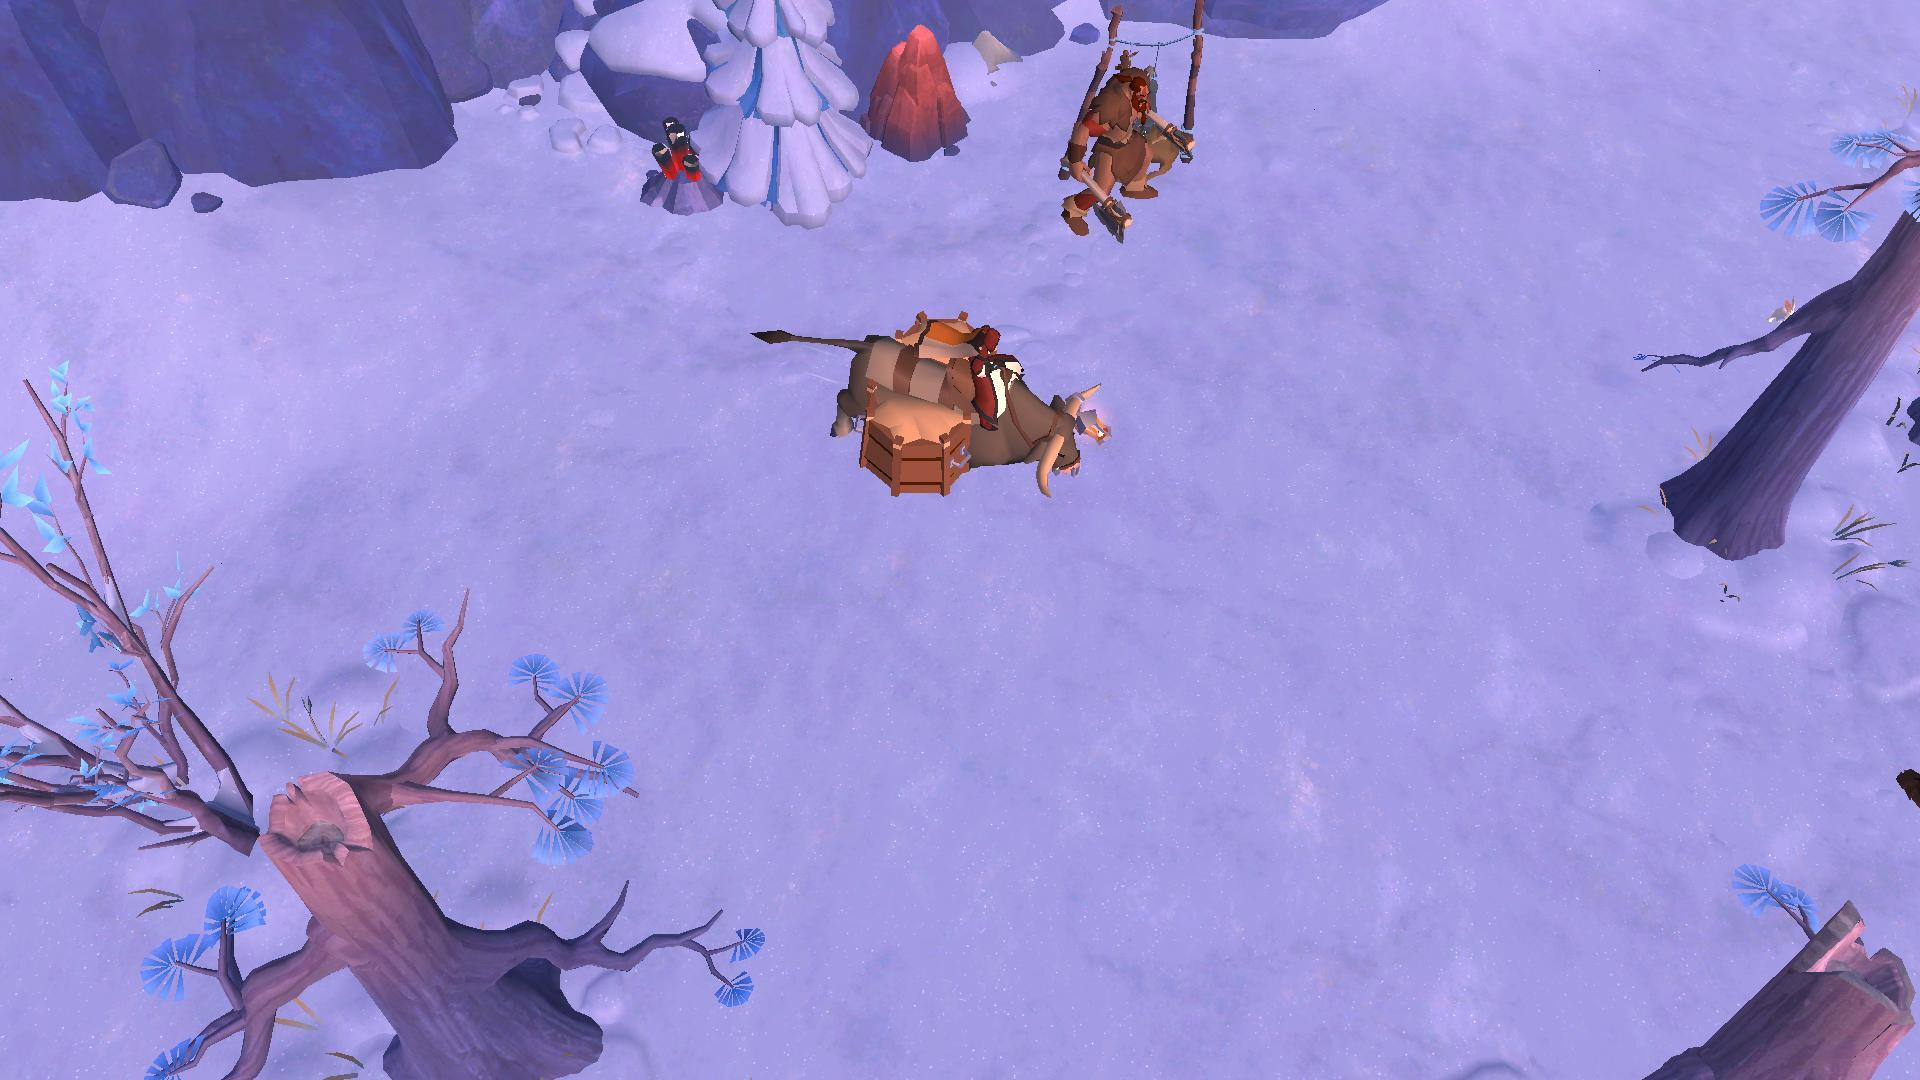enemy_factionKeeper: (1054, 63, 1197, 241)
ore_t5: (642, 115, 707, 186)
rock_t5: (864, 20, 972, 166)
